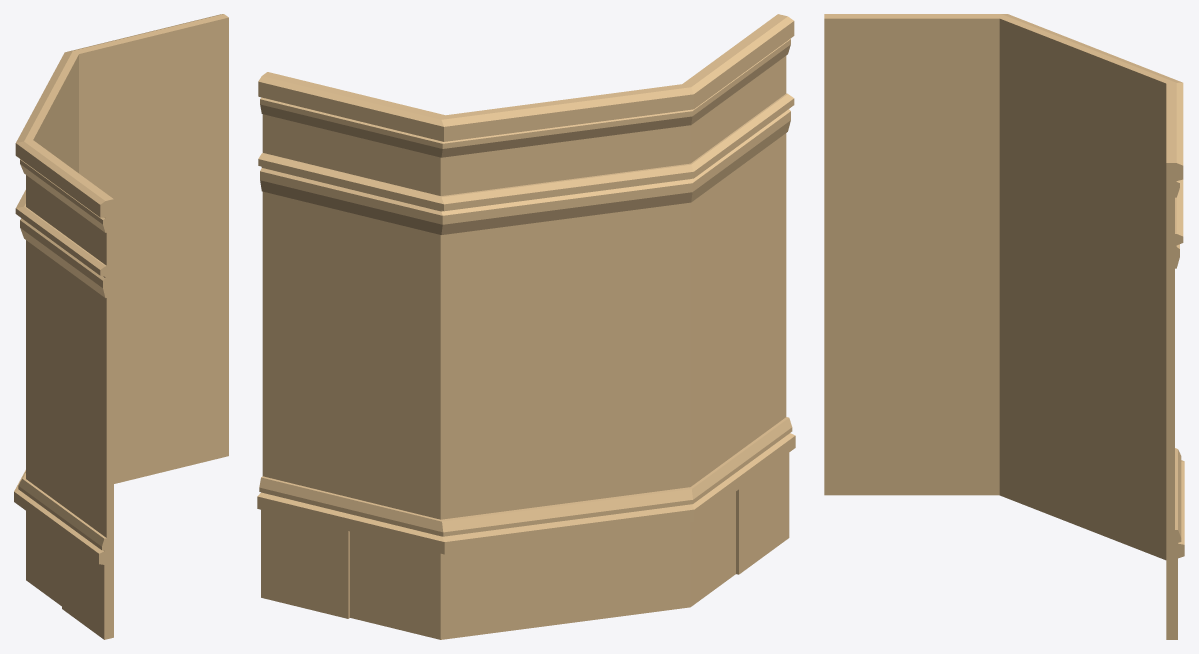
Rendered from Corner_A_OUTER_STRAIGHT.fbx.
The picture shows the model from 3 angles, left to right: view 1: azimuth 30°, elevation 25°; view 2: azimuth 150°, elevation 25°; view 3: azimuth 270°, elevation 25°; orthographic projection. The views are drawn at different scales.
Parts seen in each view (by area): view 1: Corner_A_OUTER_STRAIGHT; view 2: Corner_A_OUTER_STRAIGHT; view 3: Corner_A_OUTER_STRAIGHT.
Part boxes in pixels (x1,y1,x2,y2): Corner_A_OUTER_STRAIGHT: (14,14,228,639); Corner_A_OUTER_STRAIGHT: (257,14,795,639); Corner_A_OUTER_STRAIGHT: (824,14,1184,639).
Bounding box in the file's own units: 205 × 205 × 300.
